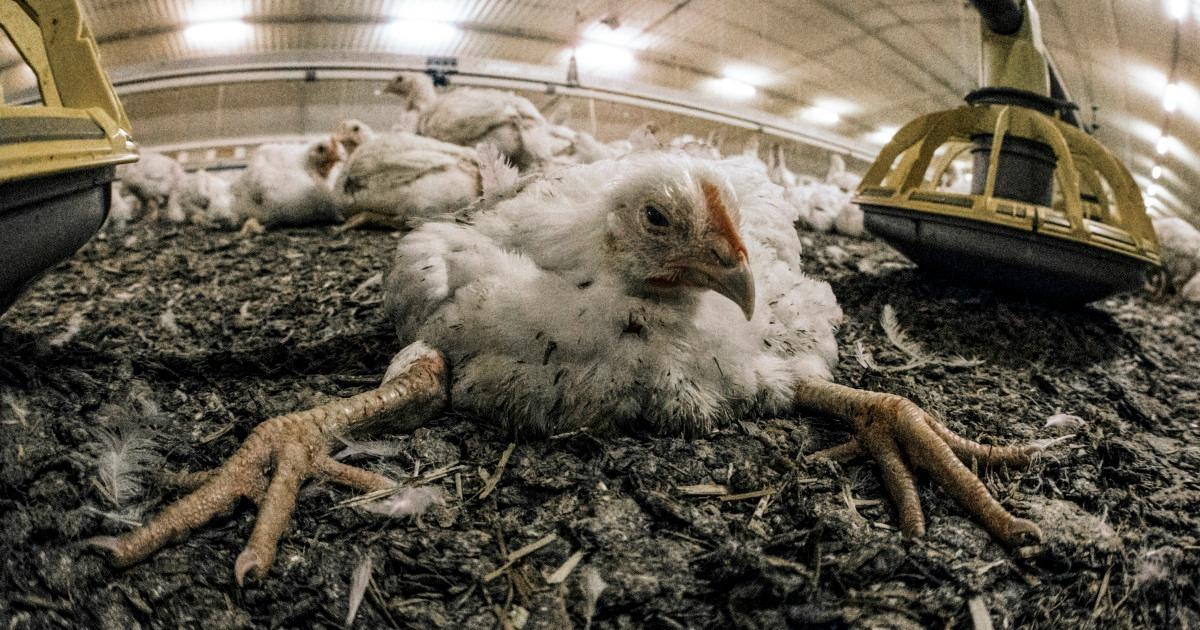AbNormal: (78, 145, 1086, 600)
